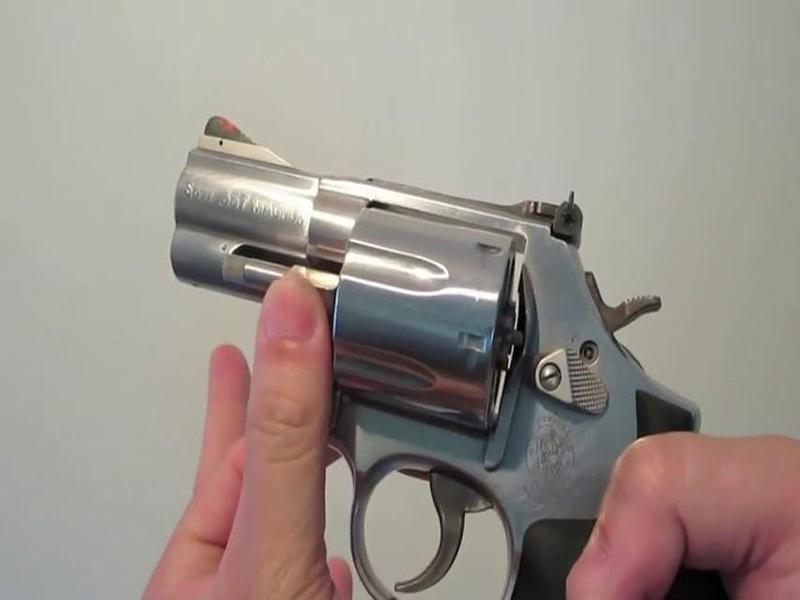Revolver: (157, 77, 716, 570)
